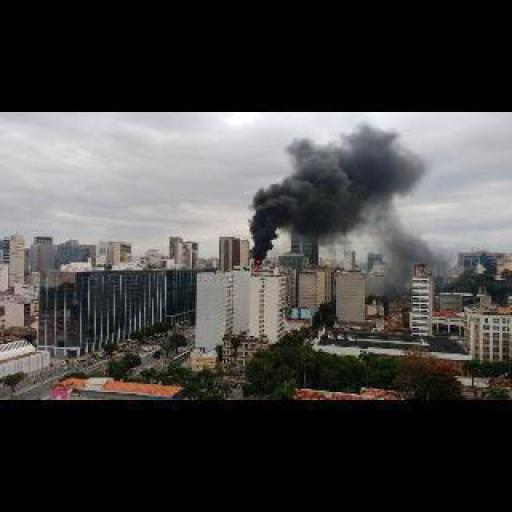smoke: (246, 123, 432, 256), (254, 261, 261, 269)
